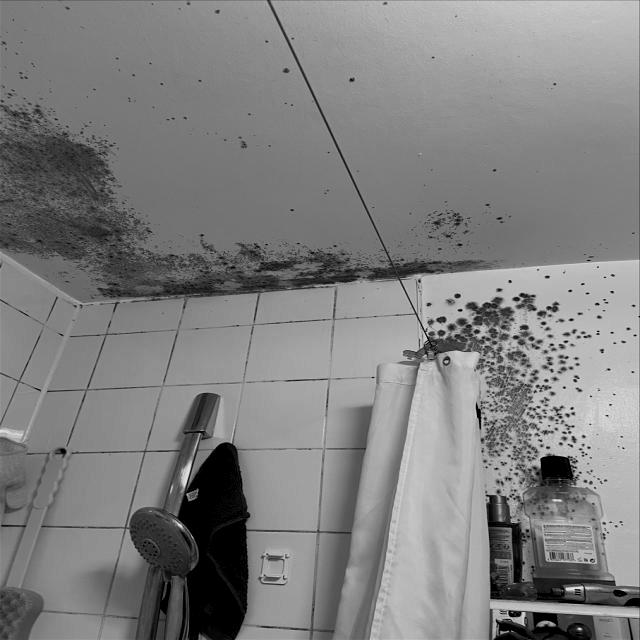stain marks: (0, 0, 640, 241), (424, 290, 640, 557), (3, 243, 640, 293)
